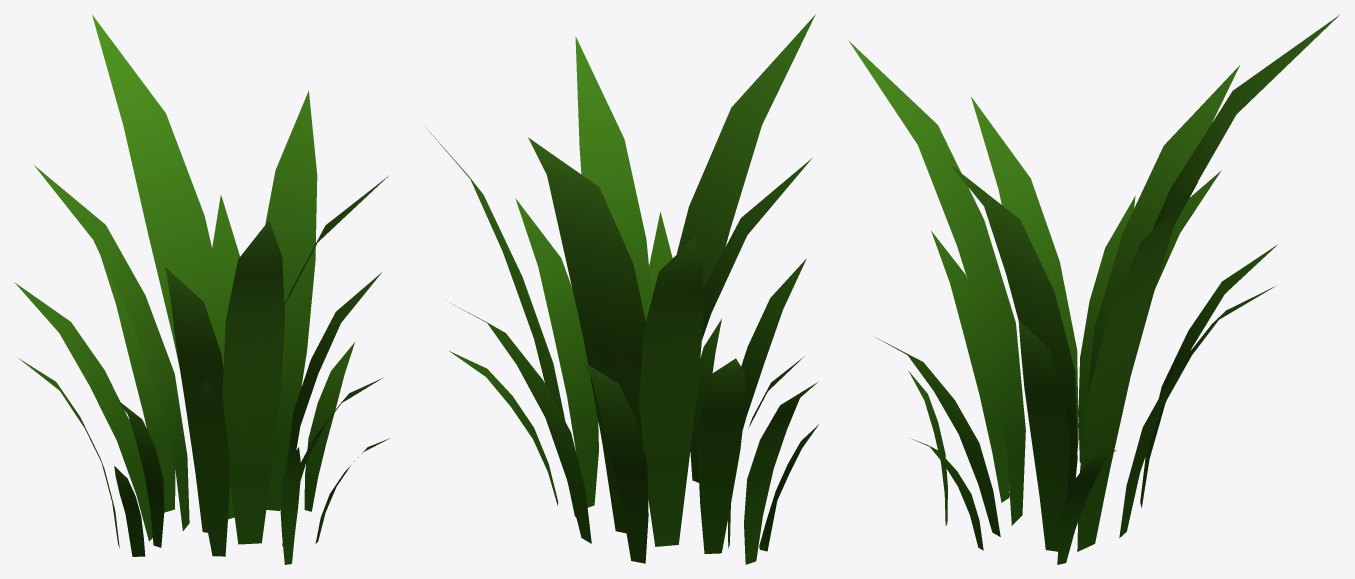
The model's file is Grass.fbx.
3 renders of one model, left to right at view 1: azimuth 30°, elevation 25°; view 2: azimuth 150°, elevation 25°; view 3: azimuth 270°, elevation 25°, orthographic. The views are drawn at different scales.
Visible parts, largest first — view 1: Grass_LOD0; view 2: Grass_LOD0; view 3: Grass_LOD0.
Part boxes in pixels (left/top/right/bottom): Grass_LOD0: left=15, top=14, right=389, bottom=564; Grass_LOD0: left=426, top=14, right=818, bottom=564; Grass_LOD0: left=848, top=15, right=1339, bottom=564.
Bounding box in the file's own units: 136 × 170 × 153.
